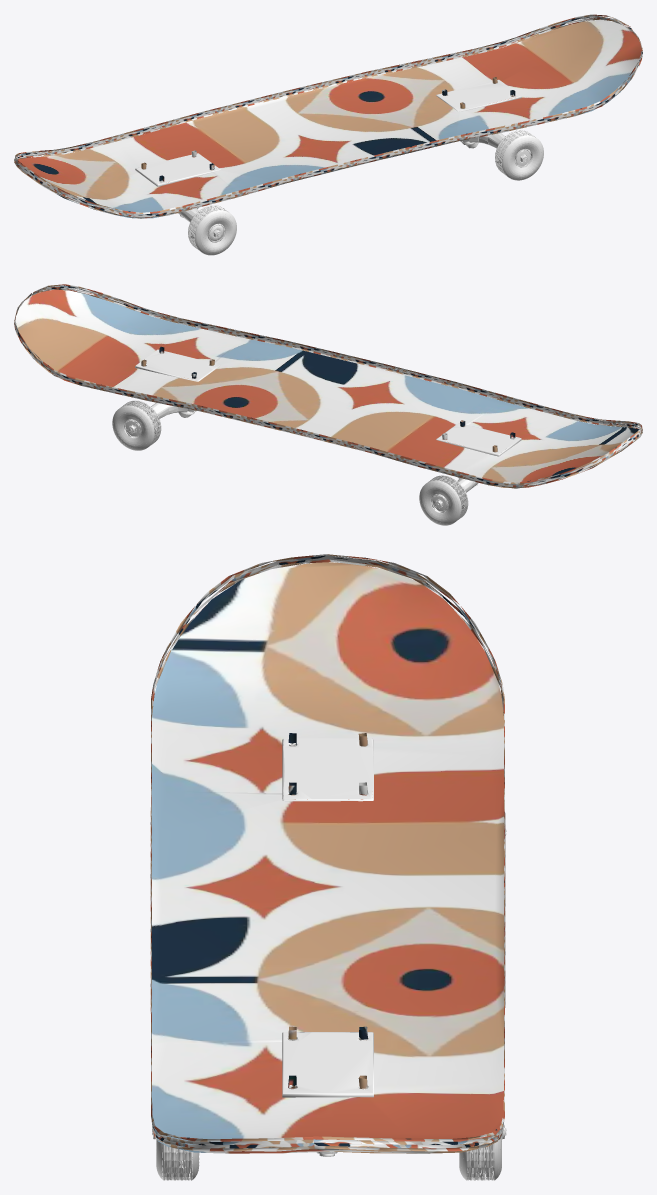
File: board.glb
The picture shows the model from 3 angles, top to bottom: view 1: azimuth 30°, elevation 25°; view 2: azimuth 150°, elevation 25°; view 3: azimuth 270°, elevation 25°; orthographic projection. The views are drawn at different scales.
Parts seen in each view (by area): view 1: Skateboard, Skateboard1, Skateboard1_0.001, Skateboard1_2.001; view 2: Skateboard, Skateboard1, Skateboard1_0.001, Skateboard1_2.001; view 3: Skateboard, Skateboard1, Skateboard1_0.001, Skateboard1_2.001.
Boxes of the visible parts, <box> form: Skateboard: <box>14,14,642,218</box>; Skateboard1: <box>180,79,532,255</box>; Skateboard1_0.001: <box>135,153,225,242</box>; Skateboard1_2.001: <box>188,130,543,254</box>; Skateboard: <box>14,284,642,488</box>; Skateboard1: <box>112,349,478,525</box>; Skateboard1_0.001: <box>436,423,521,506</box>; Skateboard1_2.001: <box>113,400,467,520</box>; Skateboard: <box>150,554,505,1153</box>; Skateboard1: <box>152,829,506,1180</box>; Skateboard1_0.001: <box>282,738,506,833</box>; Skateboard1_2.001: <box>156,1139,501,1180</box>.
Size of the model in its own units: 8.63 by 1.24 by 2.21.
Materials: 4 (1 with a texture image).
